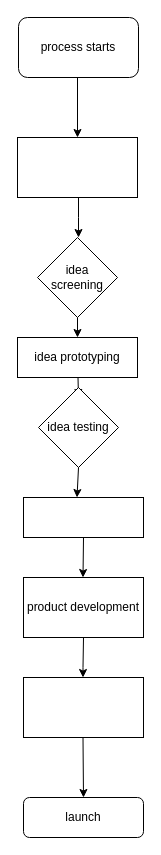
This 161x855 diagram has some shape labels left out. The shapes that lost their labels are listed below. From the top down, each one's centre as x and y in pixels, then its label:
At (77,167): "trends and market research".
At (83,517): "market strategy development".
At (83,707): "test marketing".
